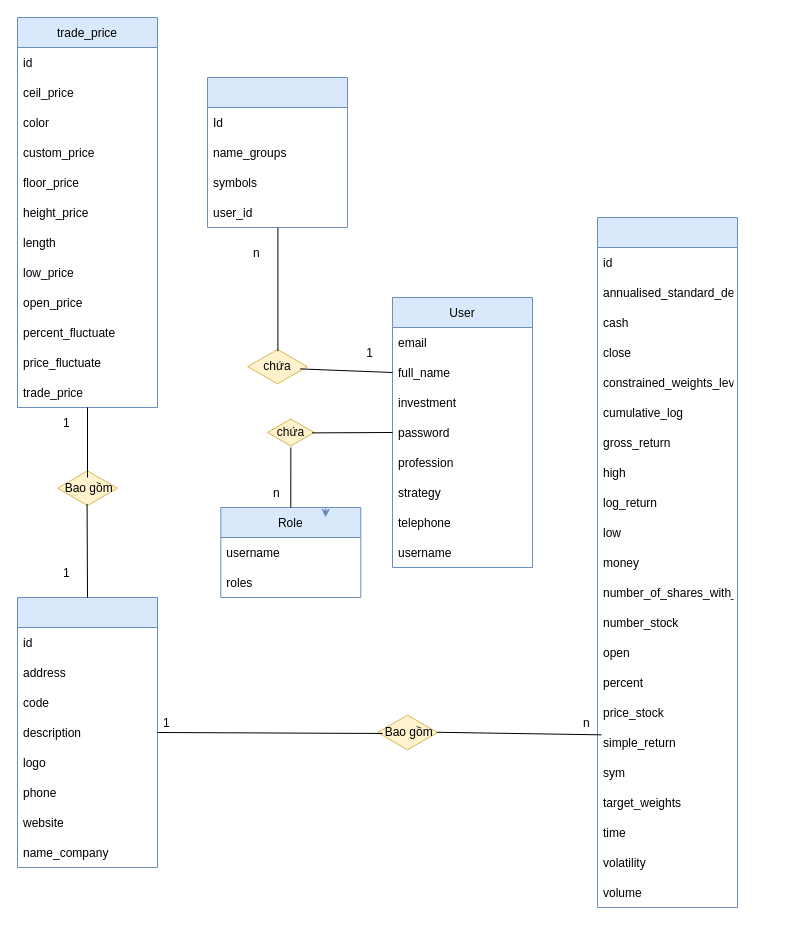
The diagram is 786 pixels wide and 925 high, and some of its shapes have lost their labels. Here are the shapes that lost their labels. From the top down, the box of each, then its label:
(206, 76, 348, 228): GroupStockHold
(596, 216, 738, 908): PriceHistory
(16, 596, 158, 868): Stock
